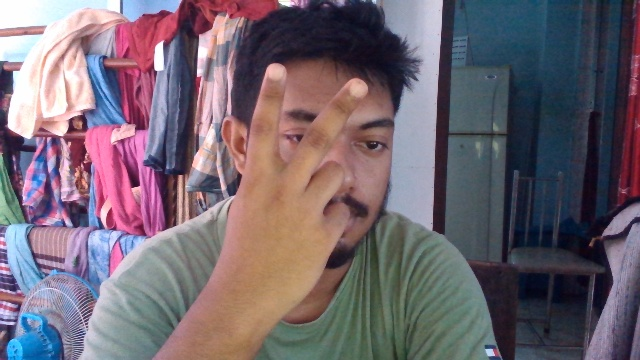thanks: (226, 61, 372, 305)
